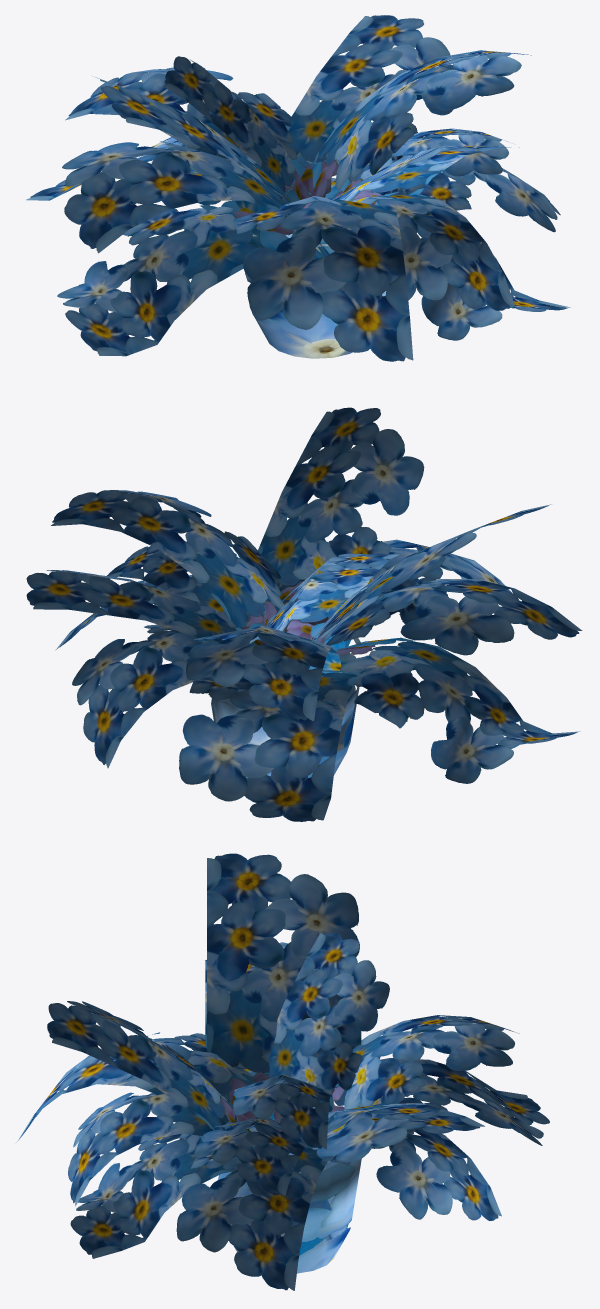
The model's file is Fern_geo.fbx.
3 renders of one model, top to bottom at view 1: azimuth 30°, elevation 25°; view 2: azimuth 150°, elevation 25°; view 3: azimuth 270°, elevation 25°, orthographic. The views are drawn at different scales.
Visible parts, largest first — view 1: fern:Medium_Fern_plant; view 2: fern:Medium_Fern_plant; view 3: fern:Medium_Fern_plant.
Part boxes in pixels (<box>): fern:Medium_Fern_plant: <box>26,15,570,361</box>; fern:Medium_Fern_plant: <box>26,407,582,821</box>; fern:Medium_Fern_plant: <box>16,853,549,1290</box>.
Size of the model in its own units: 65.57 by 39.34 by 68.61.
